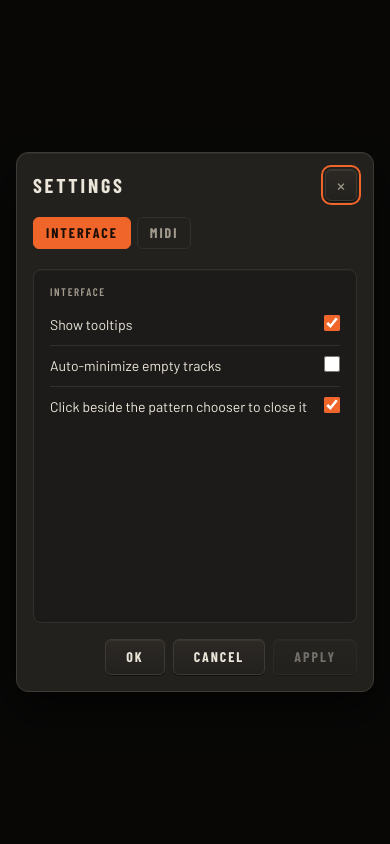
Scenario: SettingsModal › has section keys for phones
Click the button "MIDI".
click(164, 233)  # box [137,217,191,249]
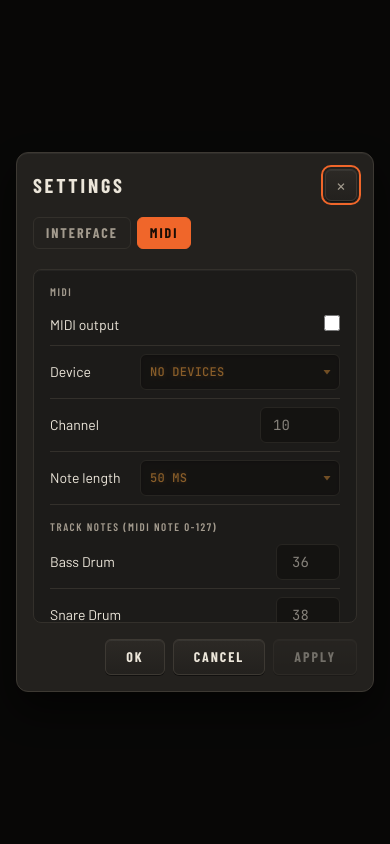
Now the heading "MIDI" is shown, box [50,285,72,298]
